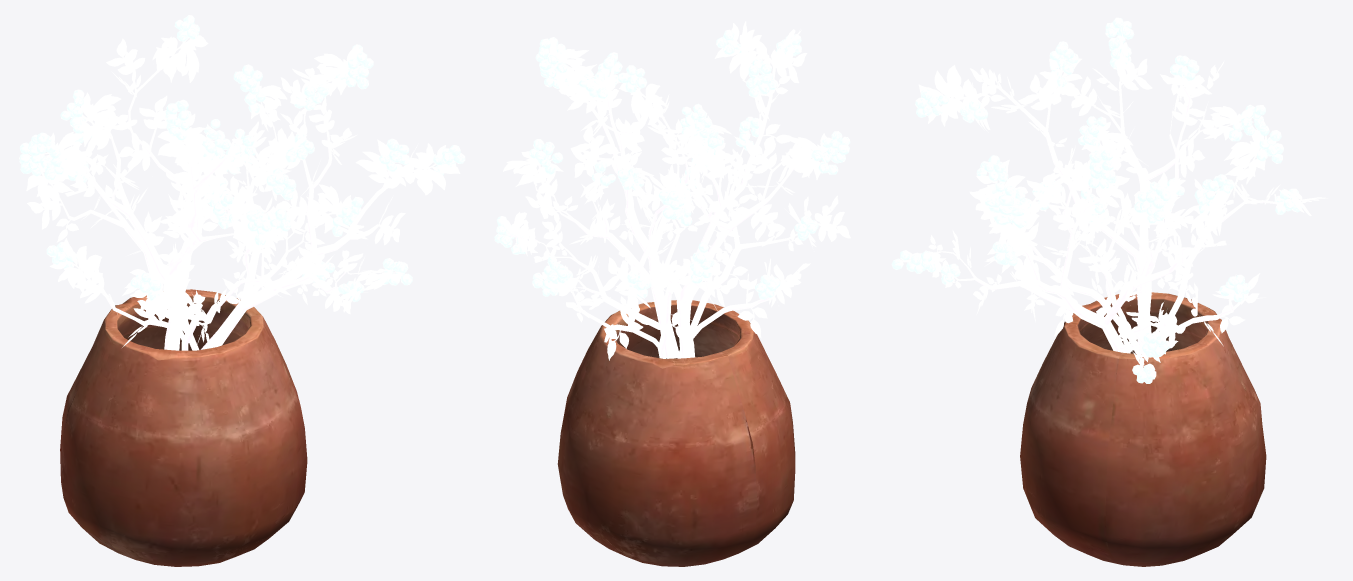
The picture shows the model from 3 angles, left to right: view 1: azimuth 30°, elevation 25°; view 2: azimuth 150°, elevation 25°; view 3: azimuth 270°, elevation 25°; orthographic projection. The views are drawn at different scales.
Parts seen in each view (by area): view 1: SM_Dec_Pot_Berry_Bush_2_LOD0; view 2: SM_Dec_Pot_Berry_Bush_2_LOD0; view 3: SM_Dec_Pot_Berry_Bush_2_LOD0.
Boxes of the visible parts, x1=… form: SM_Dec_Pot_Berry_Bush_2_LOD0: x1=19, y1=15, x2=465, y2=566; SM_Dec_Pot_Berry_Bush_2_LOD0: x1=494, y1=21, x2=850, y2=566; SM_Dec_Pot_Berry_Bush_2_LOD0: x1=891, y1=17, x2=1327, y2=566.
Bounding box in the file's own units: 0.4874 × 0.643 × 0.5146.
2 materials, 2 textured.
